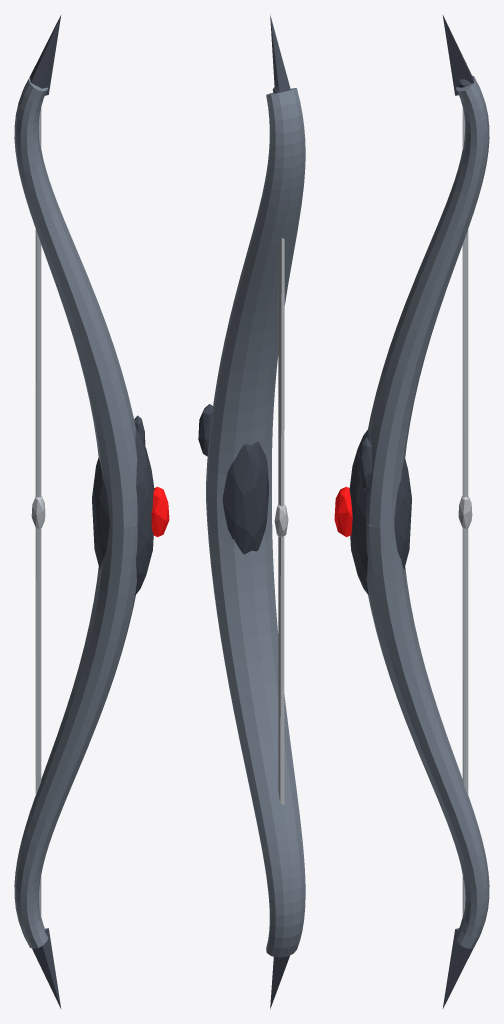
Rendered from bow_1.glb.
The picture shows the model from 3 angles, left to right: view 1: azimuth 90°, elevation 25°; view 2: azimuth 210°, elevation 25°; view 3: azimuth 270°, elevation 25°; orthographic projection.
Parts seen in each view (by area): view 1: part_01, part_04, part_07, part_09, part_02, part_05, part_17, part_08; view 2: part_04, part_01, part_09, part_07, part_02, part_16, part_05, part_08; view 3: part_01, part_04, part_07, part_09, part_02, part_05, part_17, part_16, part_08.
Boxes of the visible parts, bbox=[...] form: part_01: bbox=[14, 76, 137, 527]; part_04: bbox=[14, 523, 137, 948]; part_07: bbox=[35, 107, 41, 918]; part_09: bbox=[92, 430, 154, 594]; part_02: bbox=[30, 15, 61, 95]; part_05: bbox=[32, 928, 61, 1008]; part_17: bbox=[151, 486, 169, 537]; part_08: bbox=[31, 496, 45, 528]; part_04: bbox=[206, 487, 305, 957]; part_01: bbox=[206, 88, 305, 499]; part_09: bbox=[222, 441, 268, 554]; part_07: bbox=[278, 237, 284, 804]; part_02: bbox=[270, 14, 290, 92]; part_16: bbox=[198, 404, 212, 456]; part_05: bbox=[270, 955, 289, 1009]; part_08: bbox=[274, 504, 288, 536]; part_01: bbox=[366, 75, 489, 527]; part_04: bbox=[366, 523, 489, 948]; part_07: bbox=[462, 107, 468, 916]; part_09: bbox=[349, 430, 411, 594]; part_02: bbox=[442, 15, 473, 95]; part_05: bbox=[442, 928, 473, 1008]; part_17: bbox=[334, 486, 352, 536]; part_16: bbox=[358, 437, 373, 490]; part_08: bbox=[458, 496, 472, 528].
Bounding box in the file's own units: 0.0749 × 1.1 × 0.1556.
